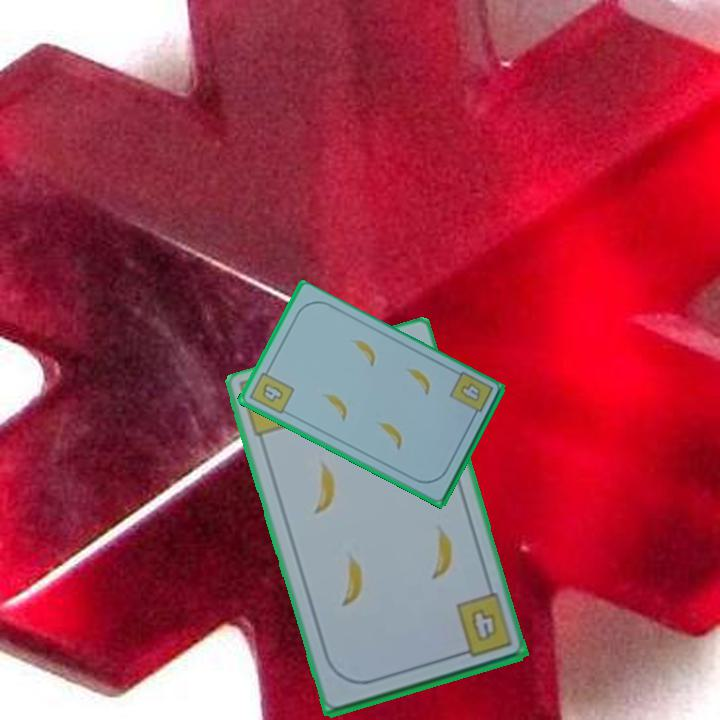4b: (451, 592, 515, 660), (446, 368, 496, 423), (246, 364, 297, 417)
